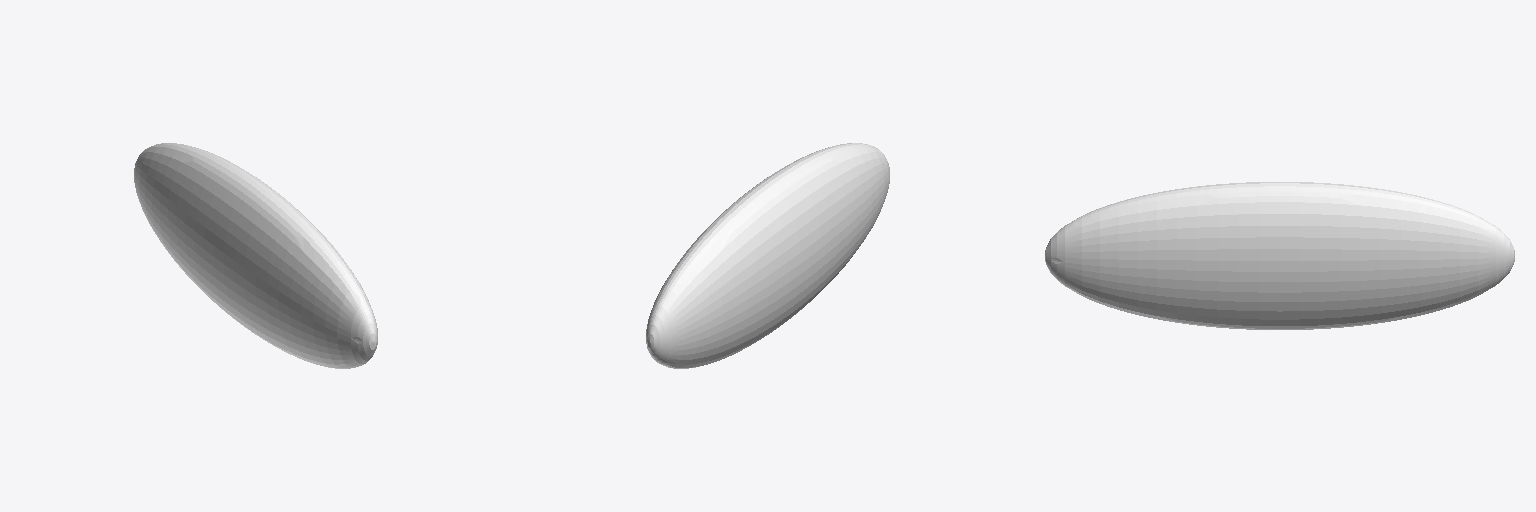
Rendered from rhObj.obj.
3 views of the same model, side by side, from view 1: azimuth 30°, elevation 25°; view 2: azimuth 150°, elevation 25°; view 3: azimuth 270°, elevation 25° (orthographic).
Bounding box in the file's own units: 14 × 30 × 88.